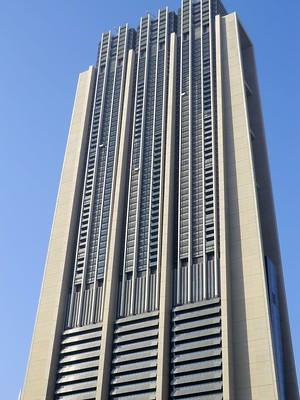building: (14, 1, 298, 399)
